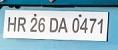0: (71, 16, 79, 33)
1: (96, 17, 103, 34)
2: (28, 15, 37, 32)
4: (79, 17, 87, 32)
6: (37, 16, 46, 32)
7: (87, 16, 96, 33)
A: (57, 15, 68, 32)
D: (48, 16, 58, 32)
H: (6, 15, 16, 31)
R: (16, 15, 26, 32)
